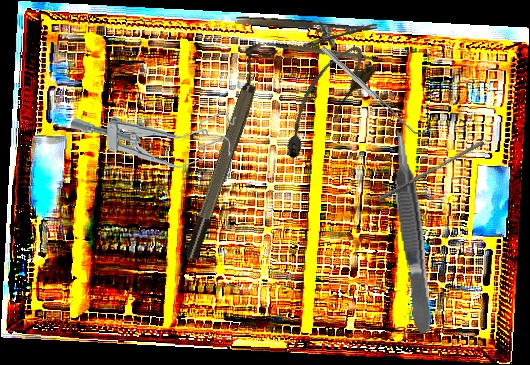Cannula: (265, 38, 382, 166)
Fixation Ring: (172, 39, 278, 263)
Needle Holder: (233, 14, 379, 53)
Pusher: (377, 136, 485, 207)
Scalpel Handle: (263, 23, 379, 77)
Spatula Surgical: (320, 41, 426, 141)
Speculum: (70, 106, 236, 170)
Tissue Forceps: (387, 127, 436, 335)
